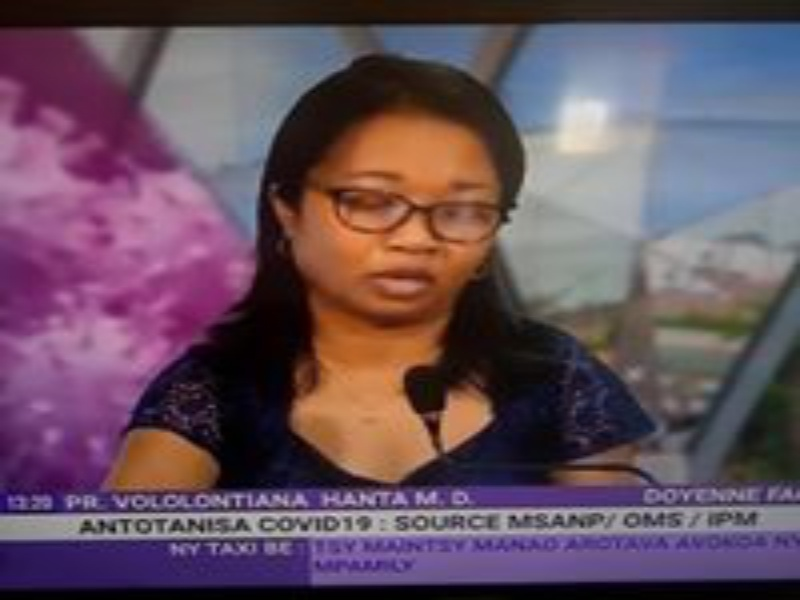TsisyArotava: (258, 65, 536, 349)
